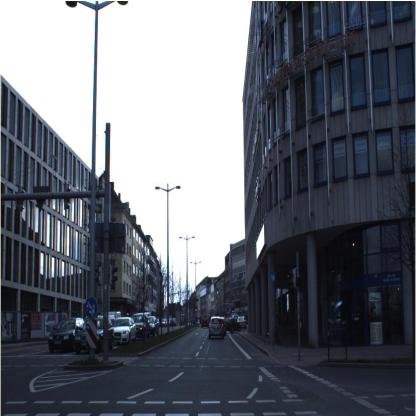mandatory: (82, 292, 100, 324)
